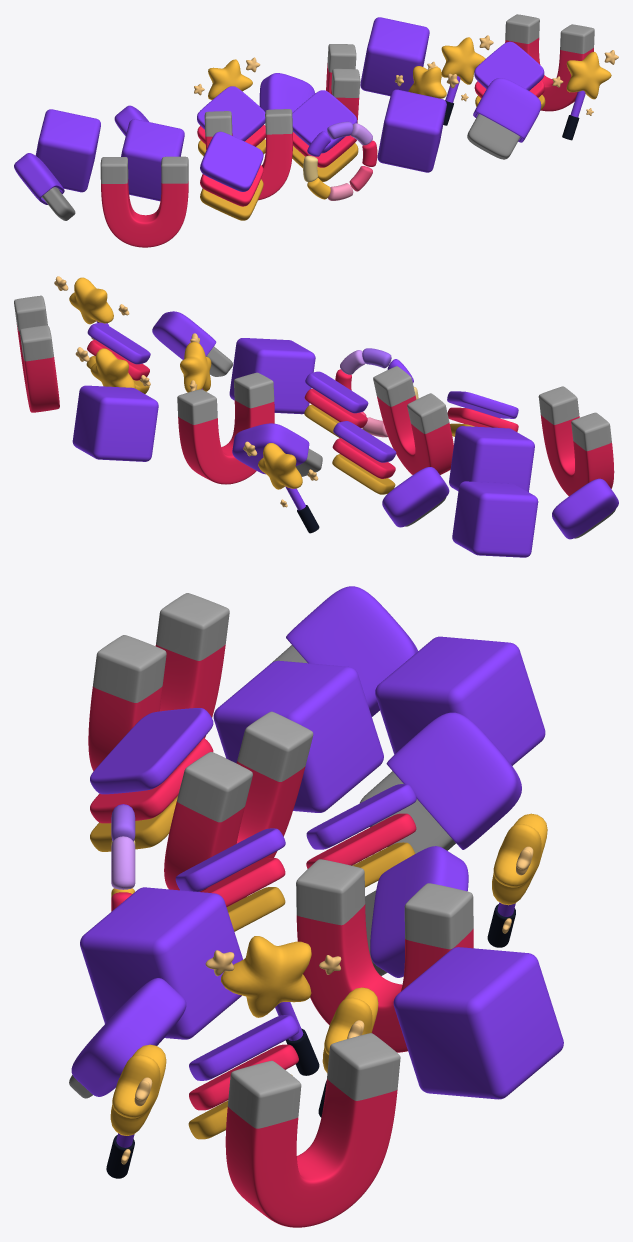
The model's file is allMesh.glb.
The picture shows the model from 3 angles, top to bottom: view 1: azimuth 30°, elevation 25°; view 2: azimuth 150°, elevation 25°; view 3: azimuth 270°, elevation 25°; orthographic projection. The views are drawn at different scales.
Visible parts, largest first — view 1: 17, 11, 10, 8, 10.001, 10.003, 11.001, 10.002, 17.002, 17.001, 7, 11.003 (+9 smaller); view 2: 17.003, 10.003, 10.001, 17.001, 17, 10.002, 10, 17.002, 11.002, 11.001, 8.003, 8.002 (+9 smaller); view 3: 17.002, 10.001, 17.003, 10, 17.001, 10.002, 10.003, 17, 8.003, 11, 8.002, 14.001 (+9 smaller).
Boxes of the visible parts, x1,y1,x2,y2 form: 17: (100, 156, 188, 247); 11: (200, 131, 263, 220); 10: (377, 89, 446, 172); 8: (467, 78, 541, 159); 10.001: (360, 17, 429, 96); 10.003: (35, 109, 100, 192); 11.001: (292, 90, 358, 181); 10.002: (121, 119, 184, 201); 17.002: (505, 14, 594, 111); 17.001: (204, 109, 292, 200); 7: (303, 121, 377, 200); 11.003: (474, 41, 545, 110); 17.003: (177, 372, 274, 484); 10.003: (452, 481, 538, 557); 10.001: (72, 385, 158, 461); 17.001: (373, 366, 453, 474); 17: (538, 386, 614, 495); 10.002: (449, 426, 534, 492); 10: (229, 338, 315, 414); 17.002: (14, 295, 59, 412); 11.002: (332, 421, 396, 494); 11.001: (304, 371, 368, 437); 8.003: (382, 467, 449, 527); 8.002: (552, 478, 618, 539); 17.002: (225, 1033, 400, 1227); 10.001: (393, 947, 563, 1099); 17.003: (296, 859, 473, 1052); 10: (80, 887, 242, 1039); 17.001: (164, 711, 313, 906); 10.002: (213, 660, 383, 812); 10.003: (375, 636, 545, 765); 17: (88, 593, 229, 771); 8.003: (360, 712, 521, 853); 11: (90, 708, 213, 851); 8.002: (270, 586, 417, 716); 14.001: (205, 936, 341, 1075).
Bounding box in the file's own units: 49.64 × 7.71 × 19.16.
